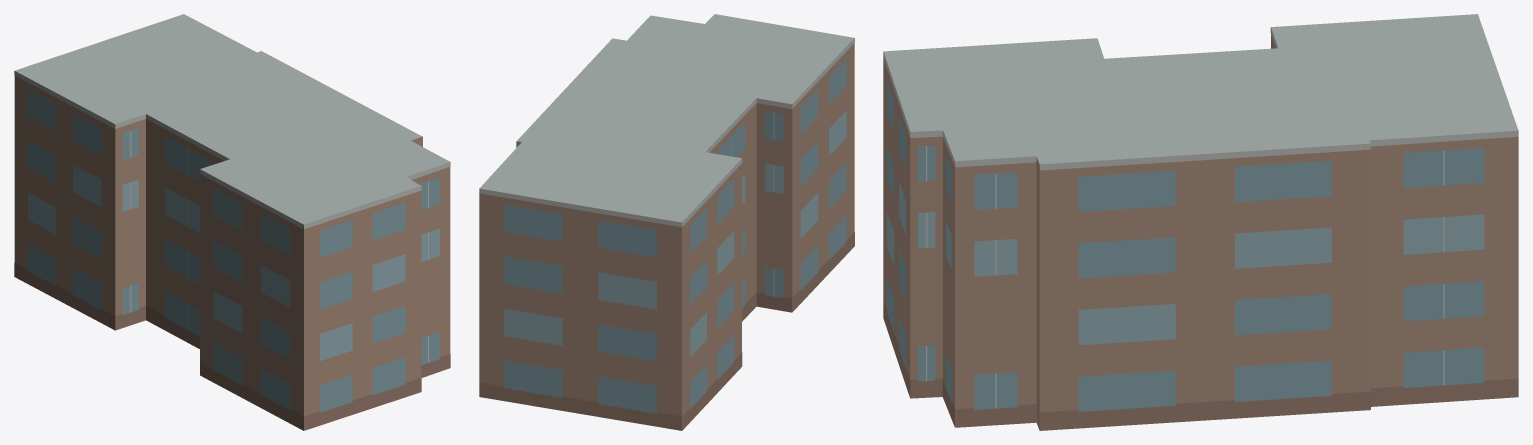
The model's file is survey-upis-32931316.glb.
3 views of the same model, side by side, from view 1: azimuth 30°, elevation 25°; view 2: azimuth 150°, elevation 25°; view 3: azimuth 270°, elevation 25° (orthographic). The views are drawn at different scales.
Visible parts, largest first — view 1: survey-upis-32931316.tmp; view 2: survey-upis-32931316.tmp; view 3: survey-upis-32931316.tmp.
Boxes of the visible parts, left/top/right/bottom form: survey-upis-32931316.tmp: left=14, top=14, right=450, bottom=430; survey-upis-32931316.tmp: left=479, top=14, right=854, bottom=430; survey-upis-32931316.tmp: left=883, top=14, right=1518, bottom=430.
Size of the model in its own units: 12.97 by 10.7 by 23.13.
